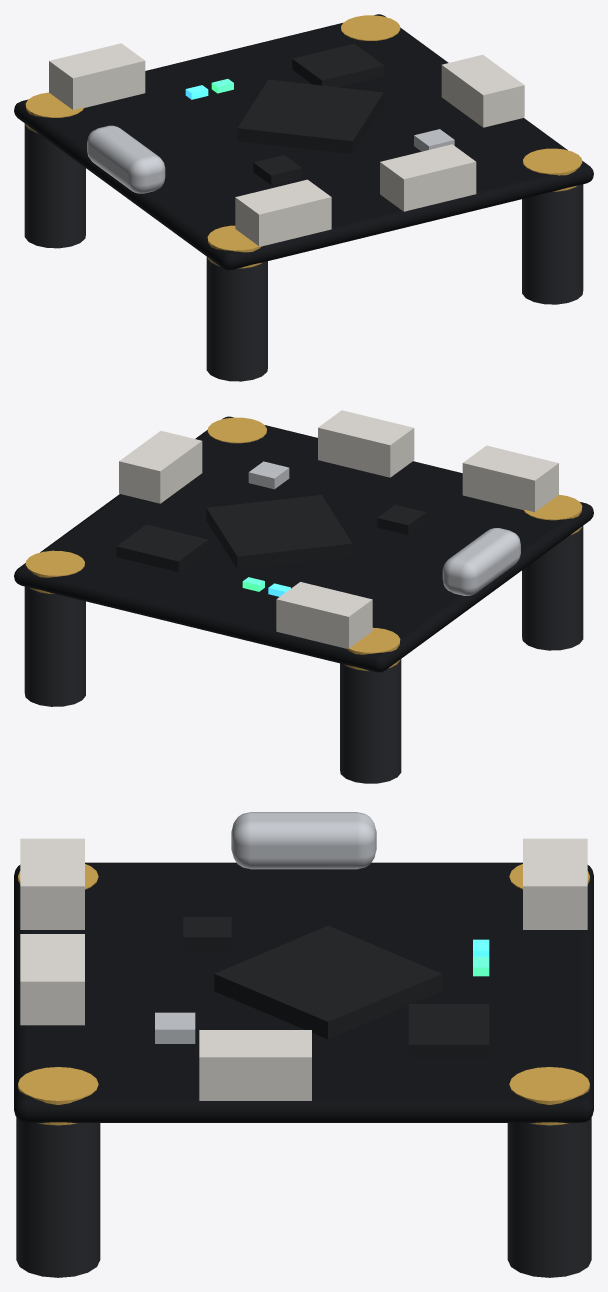
The picture shows the model from 3 angles, top to bottom: view 1: azimuth 30°, elevation 25°; view 2: azimuth 150°, elevation 25°; view 3: azimuth 270°, elevation 25°; orthographic projection. The views are drawn at different scales.
Visible parts, largest first — view 1: PCB, Nylon spacer (×3), JST-SH connector (×4), STM32F722 MCU, Mount pad (×4), USB-C port, Blackbox flash, ICM-42688-P IMU, Barometer; view 2: PCB, Nylon spacer (×3), JST-SH connector (×4), STM32F722 MCU, Mount pad (×4), USB-C port, Blackbox flash, ICM-42688-P IMU, Barometer; view 3: PCB, JST-SH connector (×4), Nylon spacer (×2), STM32F722 MCU, USB-C port, Mount pad (×2), Blackbox flash, ICM-42688-P IMU, Barometer.
Part boxes in pixels (<box>): PCB: <box>14,14,593,270</box>; Nylon spacer (×3): <box>24,123,583,381</box>; JST-SH connector (×4): <box>49,43,524,246</box>; STM32F722 MCU: <box>237,79,383,153</box>; Mount pad (×4): <box>25,15,582,268</box>; USB-C port: <box>87,125,165,193</box>; Blackbox flash: <box>292,43,383,87</box>; ICM-42688-P IMU: <box>253,155,302,185</box>; Barometer: <box>414,129,454,151</box>; PCB: <box>14,416,593,672</box>; Nylon spacer (×3): <box>24,526,583,783</box>; JST-SH connector (×4): <box>119,410,558,648</box>; STM32F722 MCU: <box>206,495,352,569</box>; Mount pad (×4): <box>25,417,582,670</box>; USB-C port: <box>442,528,520,595</box>; Blackbox flash: <box>116,524,208,572</box>; ICM-42688-P IMU: <box>377,505,426,534</box>; Barometer: <box>248,461,289,489</box>; PCB: <box>14,862,593,1122</box>; JST-SH connector (×4): <box>20,838,587,1100</box>; Nylon spacer (×2): <box>16,1117,591,1277</box>; STM32F722 MCU: <box>214,925,441,1039</box>; USB-C port: <box>231,812,376,869</box>; Mount pad (×2): <box>18,1067,589,1125</box>; Blackbox flash: <box>408,1004,489,1059</box>; ICM-42688-P IMU: <box>183,917,231,950</box>; Barometer: <box>155,1012,195,1043</box>.
Bounding box in the file's own units: 0.0369 × 0.0152 × 0.036.
